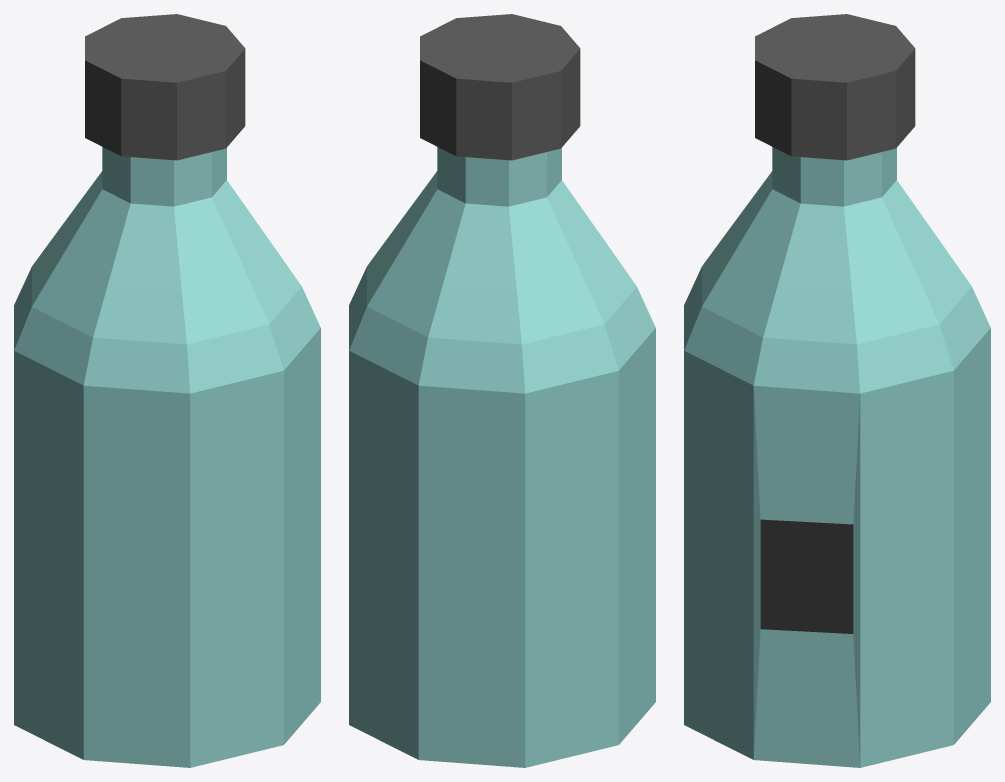
File: Bottle2.fbx
3 renders of one model, left to right at view 1: azimuth 30°, elevation 25°; view 2: azimuth 150°, elevation 25°; view 3: azimuth 270°, elevation 25°, orthographic.
Visible parts, largest first — view 1: Bottle2; view 2: Bottle2; view 3: Bottle2.
Part boxes in pixels (x1,y1,x2,y2): Bottle2: [14, 14, 320, 767]; Bottle2: [349, 14, 655, 767]; Bottle2: [684, 14, 990, 767].
Size of the model in its own units: 14.67 by 33.98 by 14.45.
